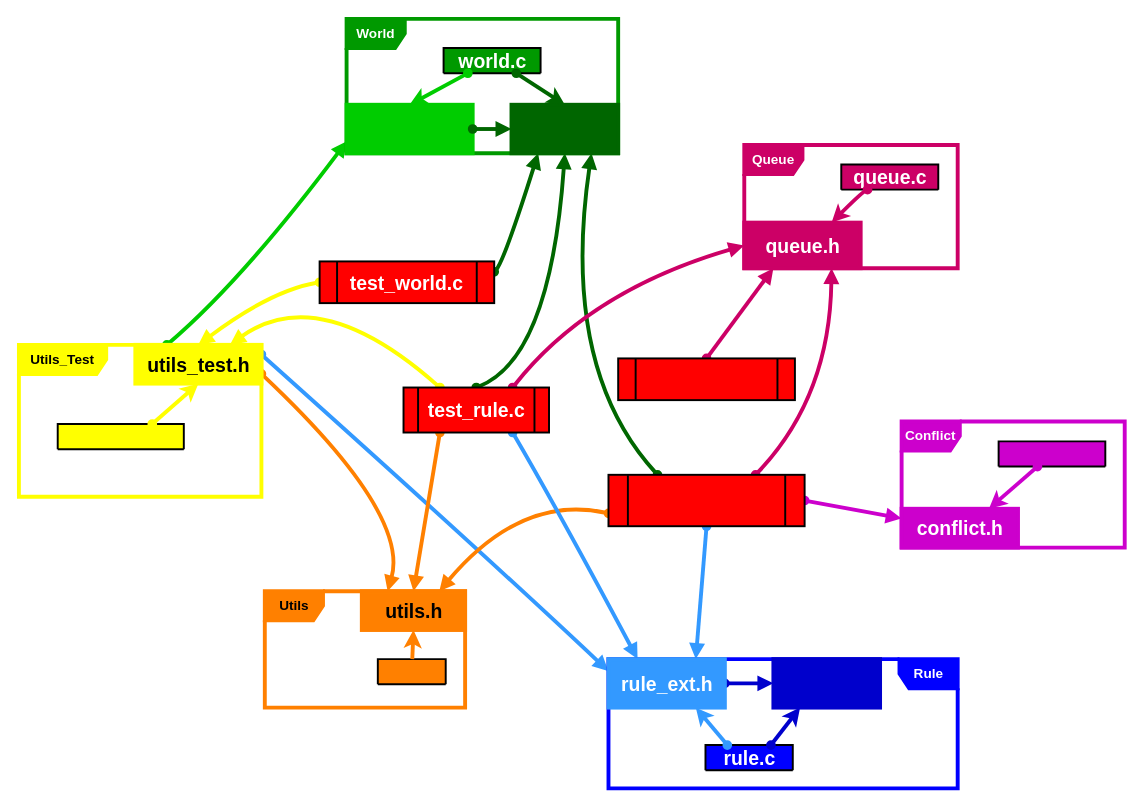
Image size: 1143x807. Some labels were removed from this diagram. The shapes that lost their labels are listed below. From the top down, each one's centre as x and y in pixels, then its label:
(x=409, y=128): world_ext.h
(x=564, y=128): world.h
(x=706, y=379): test_queue.c
(x=120, y=436): utils_test.c
(x=1051, y=453): conflict.c
(x=706, y=500): test_conflict.c
(x=411, y=671): utils.c
(x=826, y=683): rule.h
